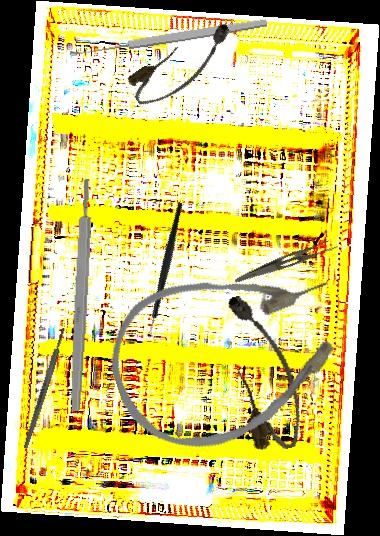Cannula: (93, 240, 365, 470), (217, 287, 311, 457), (123, 16, 243, 114)
Chopper: (107, 201, 228, 344)
Dressing Forceps: (233, 232, 340, 295)
Scalpel Handle: (68, 178, 95, 412), (21, 327, 68, 449)
Surgical Spoon: (69, 16, 268, 60)
